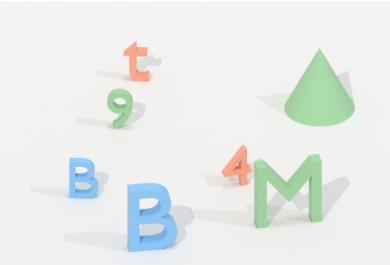0-TamGiac: (280, 43, 360, 130)
4: (218, 140, 253, 190)
9: (103, 84, 138, 133)
B: (122, 179, 181, 255), (64, 154, 101, 202)
M: (251, 151, 328, 232)
t: (121, 38, 154, 85)
